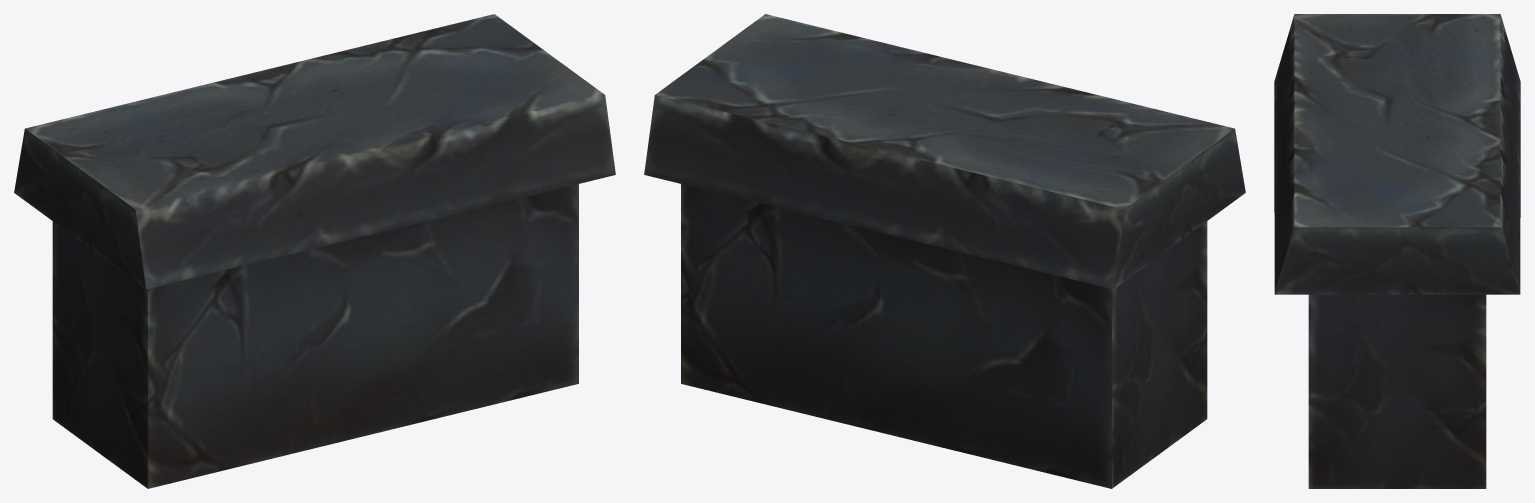
Rendered from B_shikuai012.fbx.
The picture shows the model from 3 angles, left to right: view 1: azimuth 30°, elevation 25°; view 2: azimuth 150°, elevation 25°; view 3: azimuth 270°, elevation 25°; orthographic projection. The views are drawn at different scales.
Parts seen in each view (by area): view 1: B_shikuai012; view 2: B_shikuai012; view 3: B_shikuai012.
Part boxes in pixels (bbox=[...]): B_shikuai012: bbox=[14, 14, 615, 488]; B_shikuai012: bbox=[644, 14, 1245, 488]; B_shikuai012: bbox=[1274, 14, 1520, 488].
Size of the model in its own units: 122 by 72 by 59.46.
